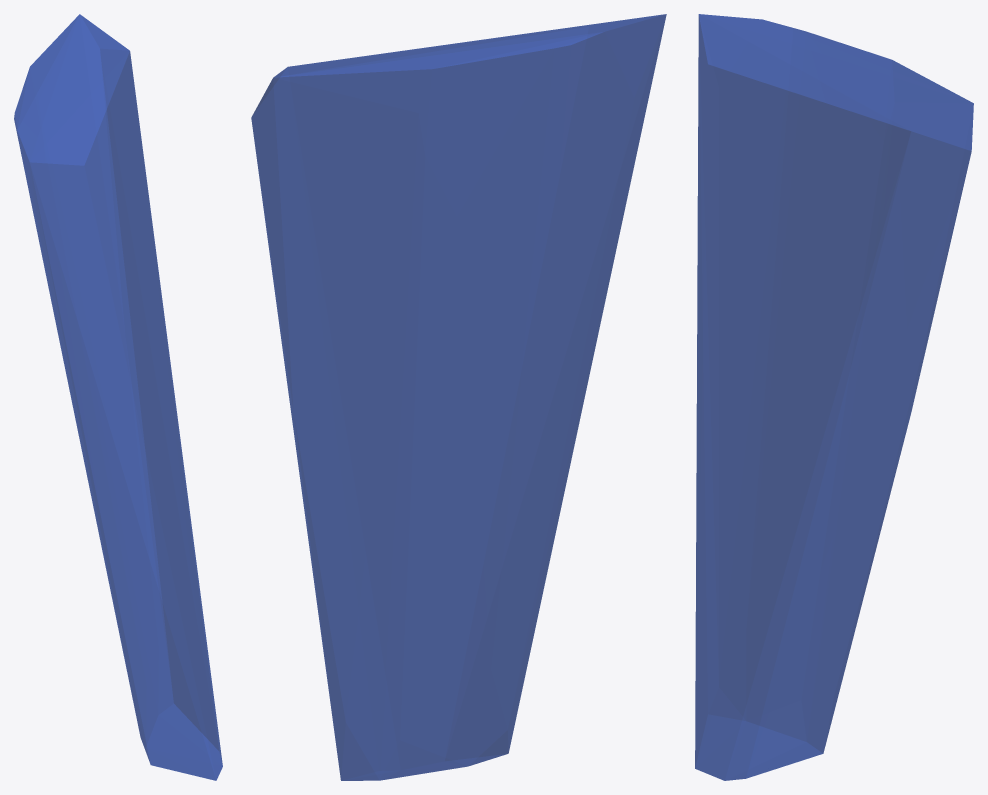
3 renders of one model, left to right at view 1: azimuth 30°, elevation 25°; view 2: azimuth 150°, elevation 25°; view 3: azimuth 270°, elevation 25°, orthographic. The views are drawn at different scales.
Parts seen in each view (by area): view 1: Shape_IndexedFaceSet.019_Shape_IndexedFaceSet.7645; view 2: Shape_IndexedFaceSet.019_Shape_IndexedFaceSet.7645; view 3: Shape_IndexedFaceSet.019_Shape_IndexedFaceSet.7645.
Part boxes in pixels (box(x1,y1,x2,y2)): Shape_IndexedFaceSet.019_Shape_IndexedFaceSet.7645: box(14, 14, 222, 780); Shape_IndexedFaceSet.019_Shape_IndexedFaceSet.7645: box(251, 14, 666, 780); Shape_IndexedFaceSet.019_Shape_IndexedFaceSet.7645: box(695, 14, 973, 780).
Size of the model in its own units: 0.3777 by 1.13 by 0.4266.
